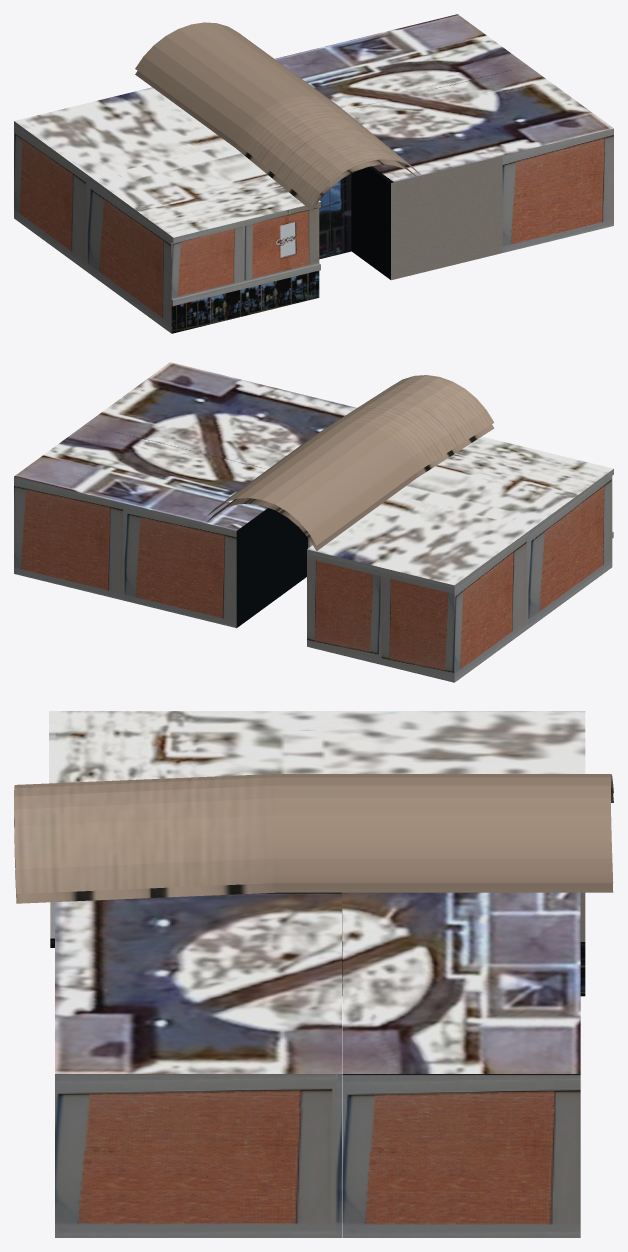
The model's file is C3TEC.glb.
3 views of the same model, one above another, from view 1: azimuth 30°, elevation 25°; view 2: azimuth 150°, elevation 25°; view 3: azimuth 270°, elevation 25° (orthographic). The views are drawn at different scales.
Visible parts, largest first — view 1: CUBO.002, CUBO, Cylinder, CUBO.001, Cylinder.001; view 2: CUBO.002, CUBO, Cylinder, Cylinder.001; view 3: CUBO.002, Cylinder, CUBO, Cylinder.001.
Part boxes in pixels (x1,y1,x2,y2): CUBO.002: (275,14,613,280); CUBO: (14,87,321,333); Cylinder: (135,22,422,204); CUBO.001: (319,174,351,259); Cylinder.001: (135,71,421,210); CUBO.002: (14,362,356,628); CUBO: (307,436,613,682); Cylinder: (207,375,494,545); Cylinder.001: (206,424,494,550); CUBO.002: (55,892,580,1237); Cylinder: (14,774,613,893); CUBO: (49,711,585,996); Cylinder.001: (14,783,613,903).
Size of the model in its own units: 6.27 by 1.94 by 4.38.
5 materials, 5 textured.
